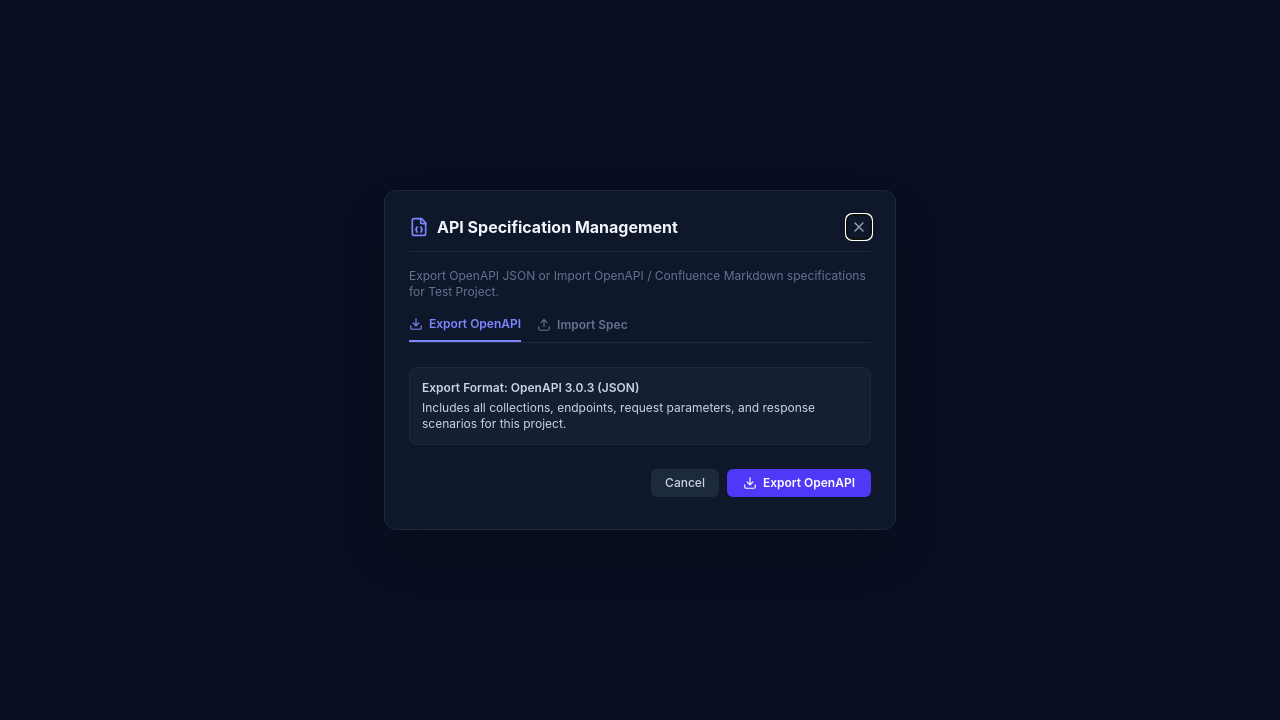
Scenario: OpenApiModal › renders download template md button to the left of file input on confluence_markdown format
The width and height of the screenshot is (1280, 720).
# Switch to Import Spec tab
Click the button "Import Spec". click: (582, 329)
box: left=537, top=316, right=628, bottom=342
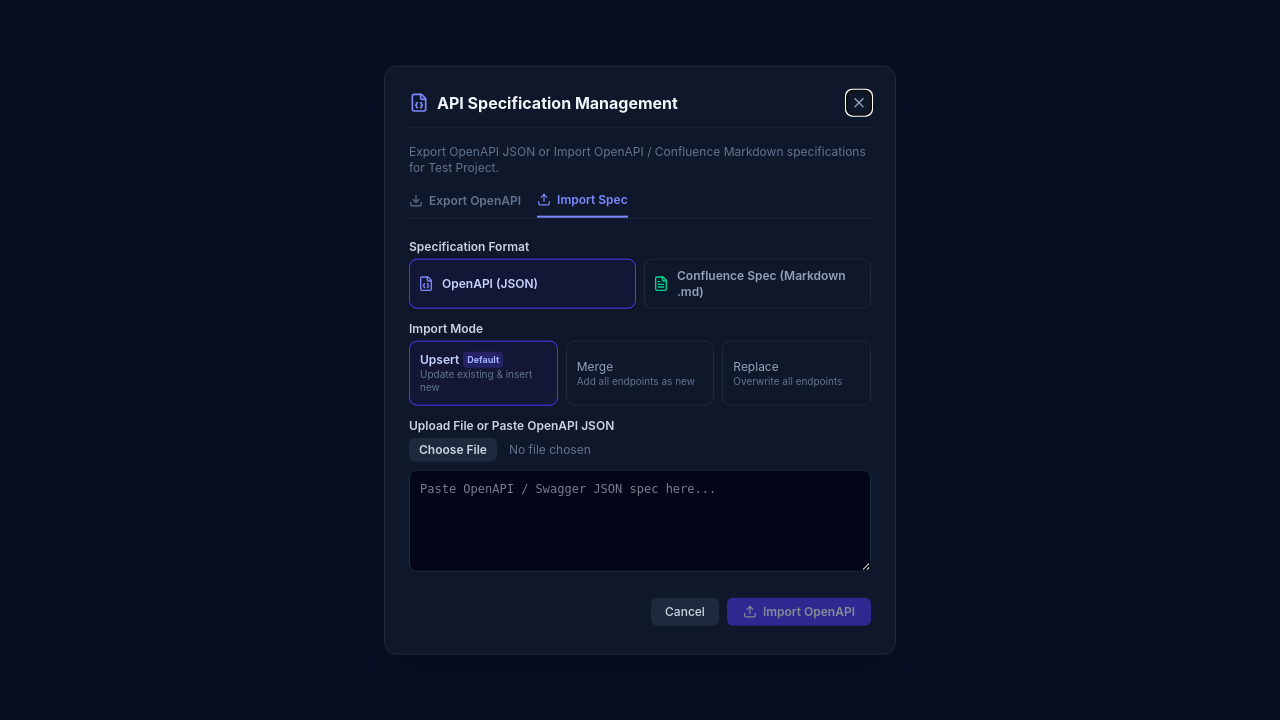
expect the text "Download Template MD" is not shown: met
Click the button "Confluence Spec (Markdown .md)". click: (758, 284)
box: left=644, top=259, right=871, bottom=309
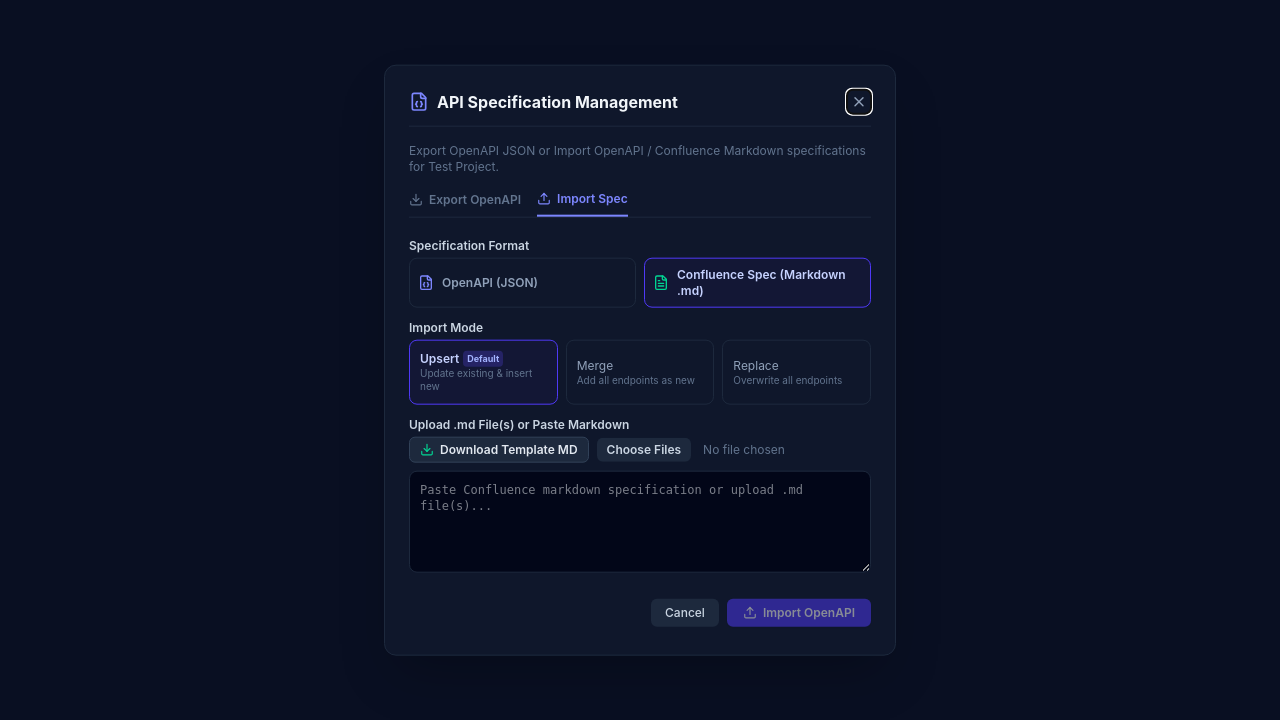
expect the button "Download Template MD" is shown: met, box left=409, top=436, right=589, bottom=462
